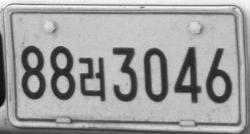0: (143, 46, 169, 103)
3: (112, 46, 138, 102)
4: (173, 46, 202, 103)
6: (205, 47, 233, 103)
8: (49, 44, 75, 101), (20, 44, 46, 100)
러: (78, 56, 107, 102)
